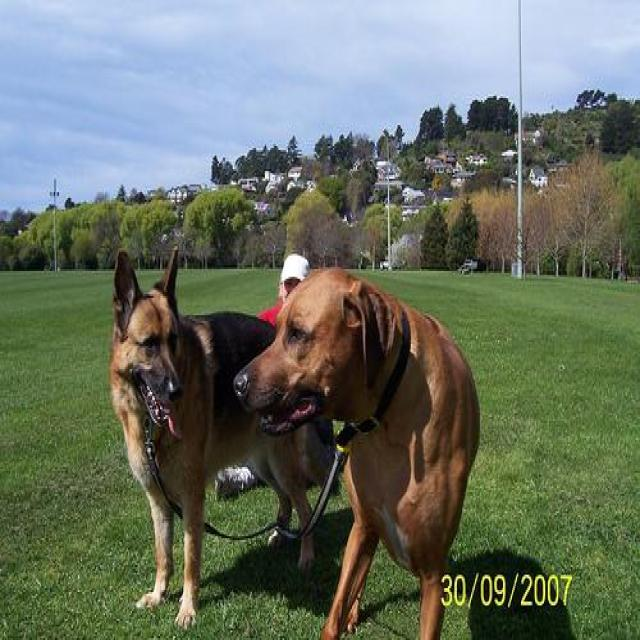rhodesian_ridgeback: (230, 267, 482, 638)
